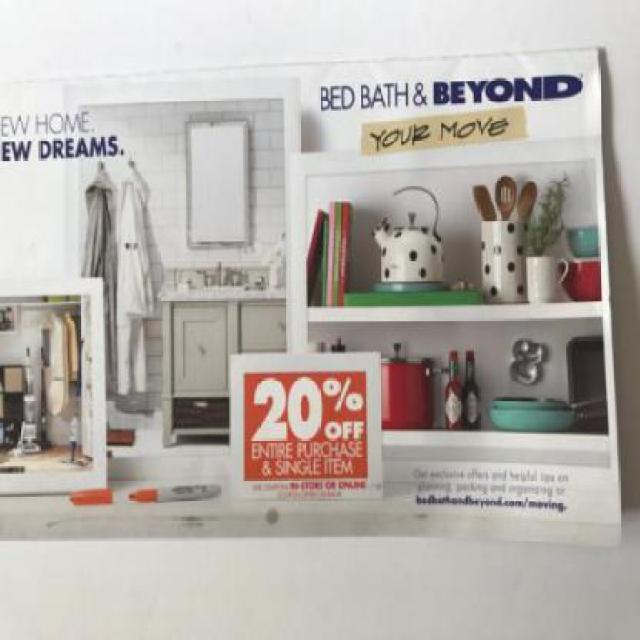PAPER: (0, 45, 622, 552)
